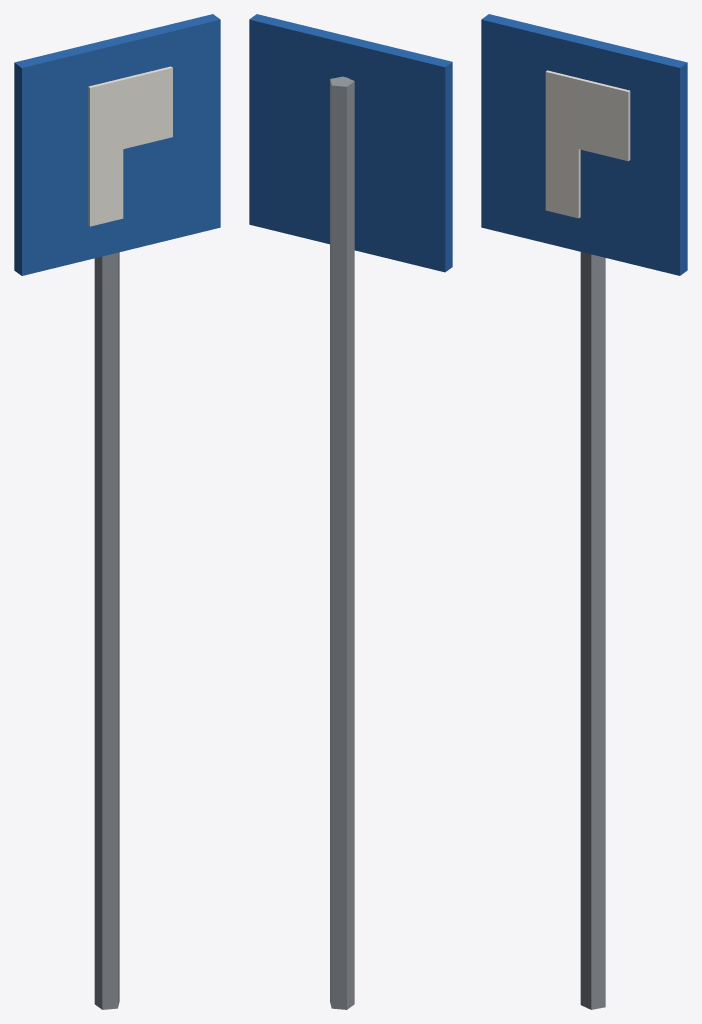
The model's file is sign_parking.glb.
The picture shows the model from 3 angles, left to right: view 1: azimuth 30°, elevation 25°; view 2: azimuth 150°, elevation 25°; view 3: azimuth 330°, elevation 25°; orthographic projection.
Parts seen in each view (by area): view 1: sign_parking; view 2: sign_parking; view 3: sign_parking.
Boxes of the visible parts, x1,y1,x2,y2 form: sign_parking: [14, 14, 220, 1009]; sign_parking: [249, 14, 452, 1009]; sign_parking: [481, 14, 687, 1009].
Size of the model in its own units: 0.6 by 2.8 by 0.1133.
